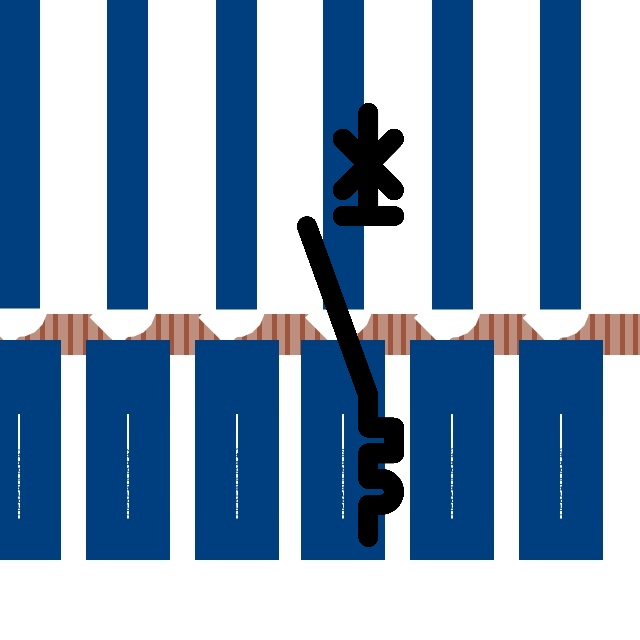interruptor_termomagnetico: (296, 102, 405, 548)
